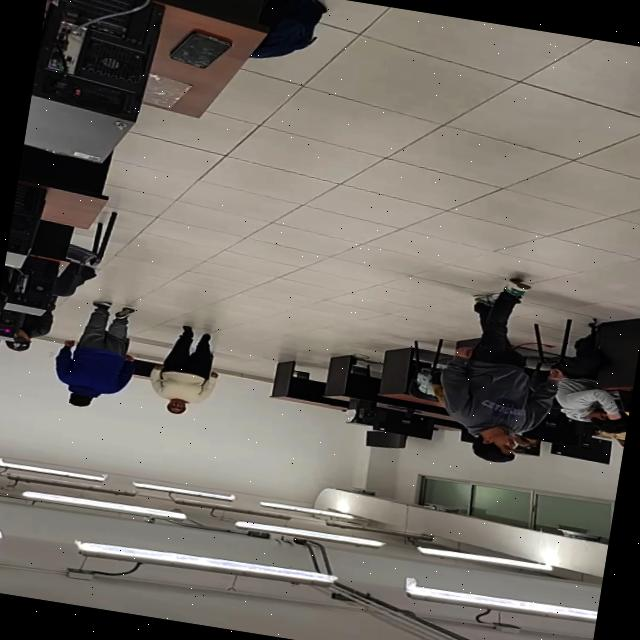Persona: (422, 265, 577, 472), (49, 296, 150, 418), (148, 324, 225, 420)
